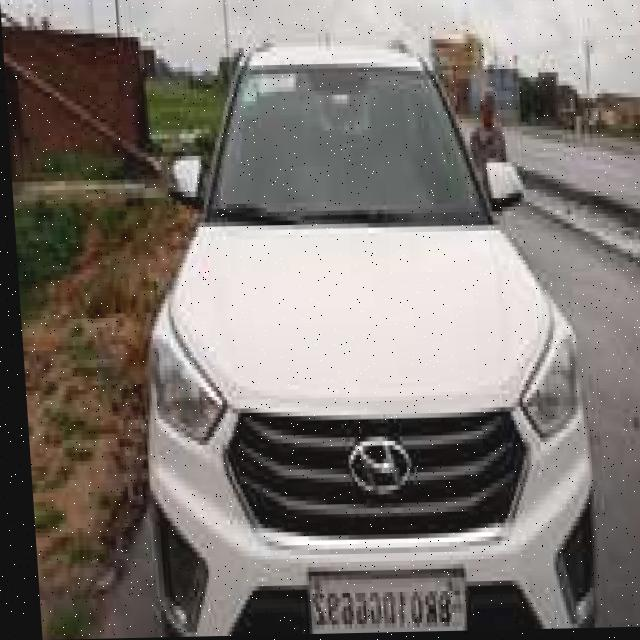plate: (300, 566, 459, 635)
